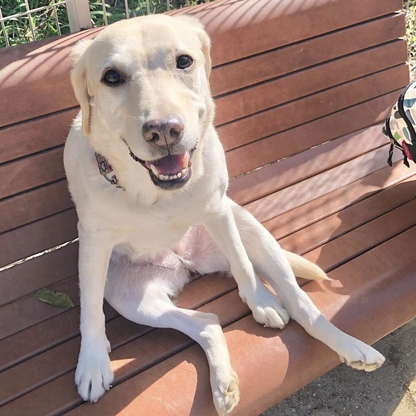labrado: (63, 7, 390, 416)
